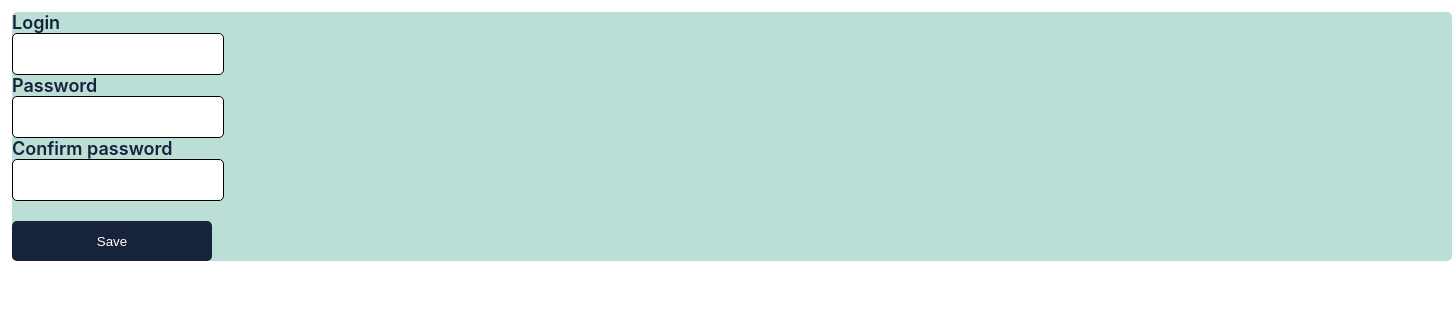
Test: UserAdd form should throw error when passwords doesnt match
Type "teste2" into the field named "login". click: {"x": 118, "y": 54}
box: [12,33,224,75]
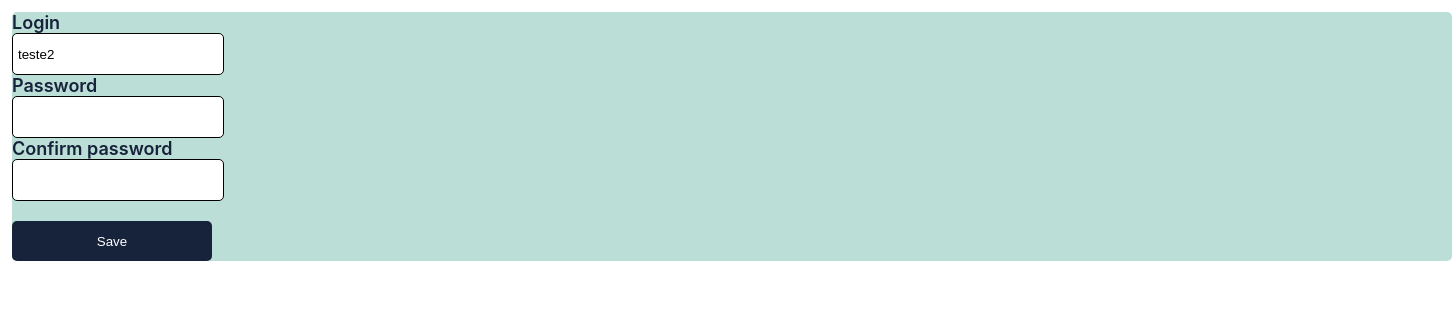
Type "123" into the 1st password field named "password". click: {"x": 118, "y": 117}
box: [12,96,224,138]
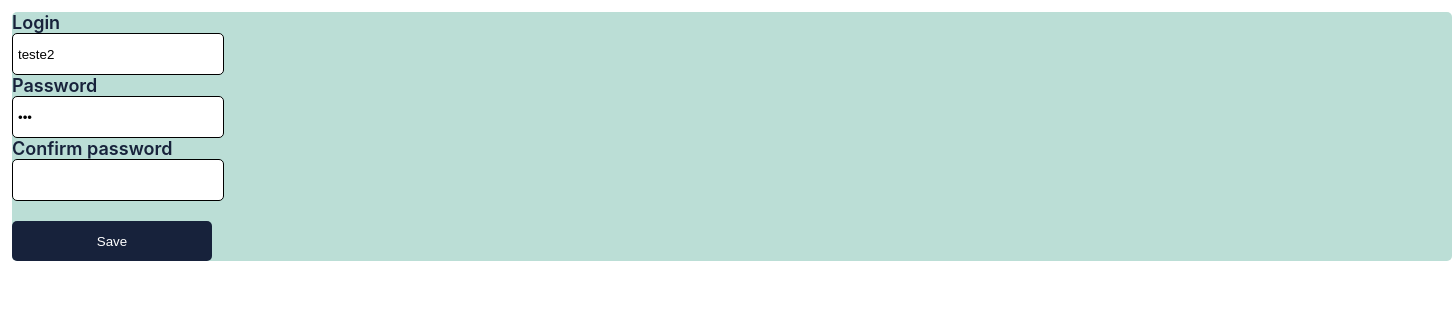
Type "321" into the password field named "confirmPassword" below "Confirm password". click: {"x": 118, "y": 180}
box: [12,159,224,201]
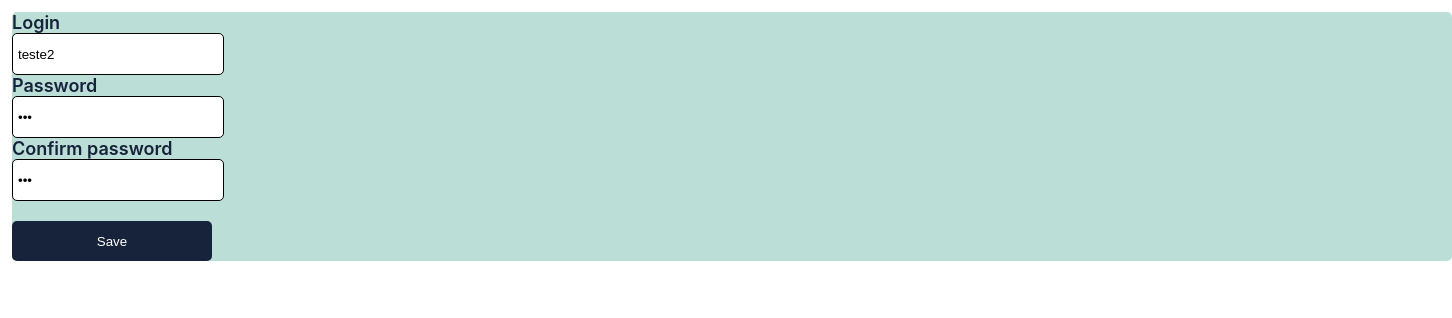
Click the submit button. click: {"x": 112, "y": 241}
box: [12,221,212,261]
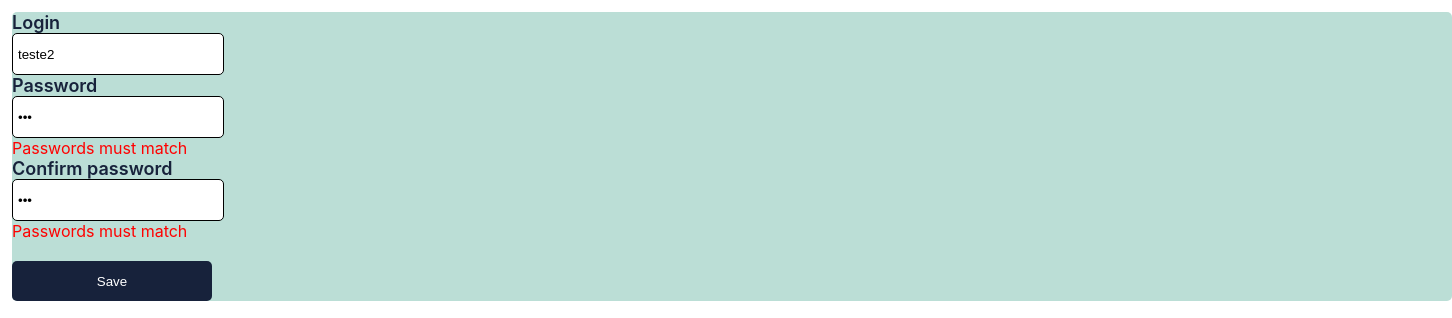
Expected: the text "Passwords must match" is shown 2 times, [12,138,187,158]; [12,221,187,241]
